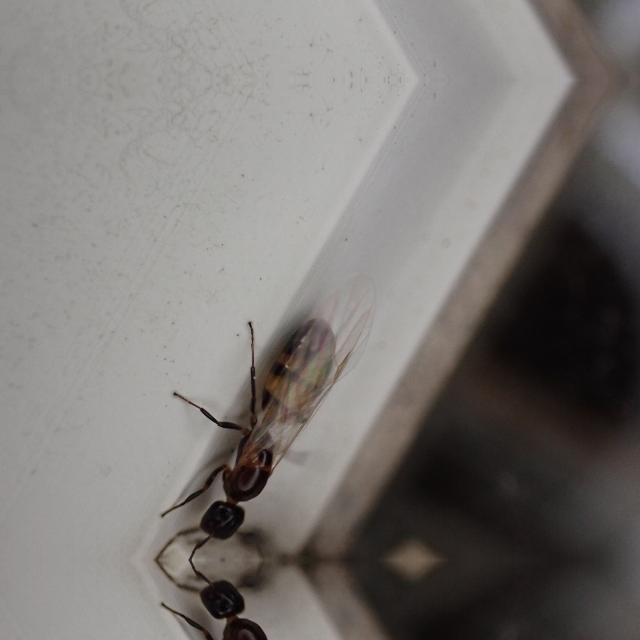Colobopsis: (148, 274, 398, 556), (148, 564, 396, 640)
